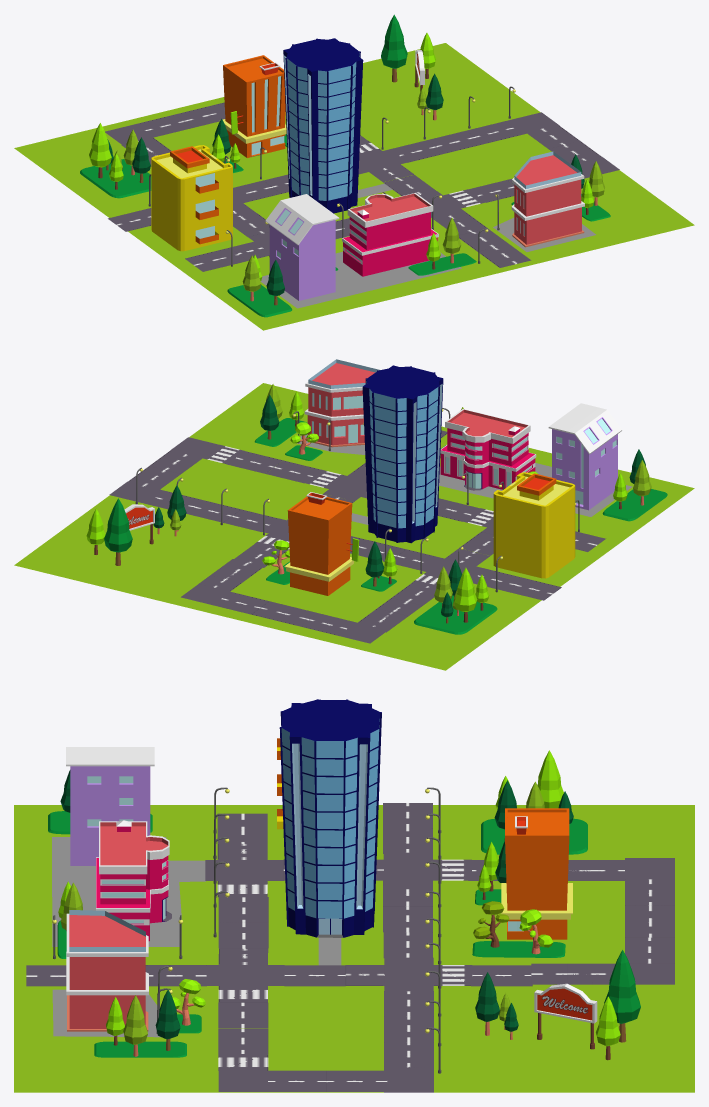
The model's file is city.fbx.
3 renders of one model, top to bottom at view 1: azimuth 30°, elevation 25°; view 2: azimuth 150°, elevation 25°; view 3: azimuth 270°, elevation 25°, orthographic. The views are drawn at different scales.
Parts seen in each view (by area): view 1: Plane, Cube, Cube.001, Cube.005, Cube.004, Cube.002, Cube.003, Plane.009, Plane.048, Plane.007, Plane.032, Plane.003 (+27 smaller); view 2: Plane, Cube, Cube.001, Cube.002, Cube.005, Cube.004, Cube.003, Plane.048, Plane.022, Plane.003, Plane.009, Cylinder.021 (+33 smaller); view 3: Plane, Cube, Cube.003, Cube.002, Cube.004, Cube.005, Plane.009, Plane.003, Plane.007, Plane.010, Plane.022, Cylinder.016 (+43 smaller).
Boxes of the visible parts, bbox=[...] form: Plane: bbox=[14, 43, 694, 330]; Cube: bbox=[283, 38, 363, 213]; Cube.001: bbox=[151, 145, 232, 251]; Cube.005: bbox=[342, 193, 438, 276]; Cube.004: bbox=[265, 194, 339, 300]; Cube.002: bbox=[219, 55, 286, 157]; Cube.003: bbox=[511, 151, 584, 247]; Plane.009: bbox=[260, 251, 461, 308]; Plane.048: bbox=[80, 159, 151, 198]; Plane.007: bbox=[358, 140, 414, 182]; Plane.032: bbox=[227, 285, 292, 317]; Plane.003: bbox=[419, 189, 485, 219]; Plane: bbox=[14, 383, 694, 670]; Cube: bbox=[362, 365, 443, 543]; Cube.001: bbox=[493, 472, 575, 578]; Cube.002: bbox=[284, 492, 359, 595]; Cube.005: bbox=[440, 409, 536, 490]; Cube.004: bbox=[548, 403, 621, 510]; Cube.003: bbox=[304, 359, 380, 447]; Plane.048: bbox=[414, 595, 497, 634]; Plane.022: bbox=[413, 548, 489, 587]; Plane.003: bbox=[304, 470, 366, 501]; Plane.009: bbox=[439, 463, 632, 516]; Cylinder.021: bbox=[104, 498, 132, 565]; Plane: bbox=[14, 805, 694, 1092]; Cube: bbox=[279, 699, 381, 937]; Cube.003: bbox=[66, 910, 148, 1031]; Cube.002: bbox=[501, 808, 572, 939]; Cube.004: bbox=[66, 747, 154, 865]; Cube.005: bbox=[96, 820, 171, 941]; Plane.009: bbox=[52, 837, 205, 946]; Plane.003: bbox=[206, 948, 284, 1002]; Plane.007: bbox=[345, 957, 472, 991]; Plane.010: bbox=[205, 843, 283, 897]; Plane.022: bbox=[376, 852, 471, 885]; Cylinder.016: bbox=[534, 983, 597, 1049].
Size of the model in its own units: 6274 by 2058 by 6235.
